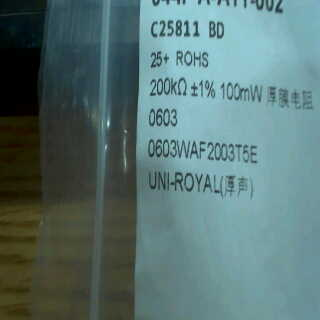200kR: (147, 72, 191, 101)
